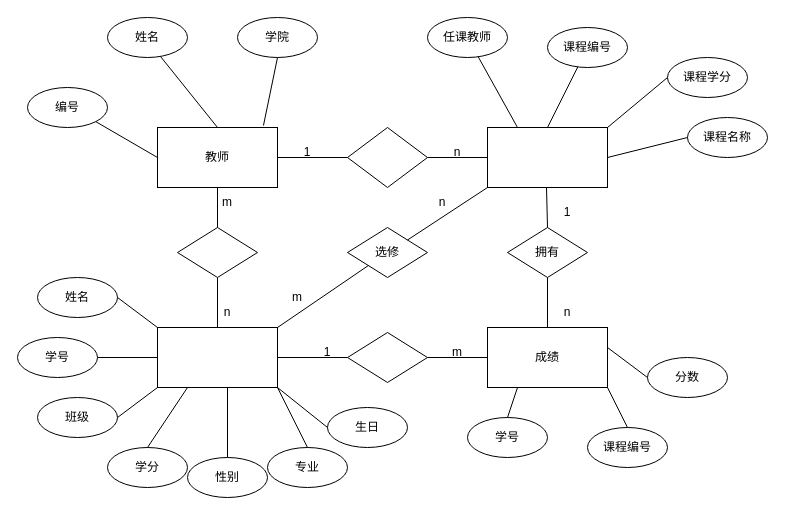
The diagram is 785 pixels wide and 515 high, and some of its shapes have lost their labels. The centre of each missing label's shape, as x and y in pixels:
学生: pixel 217 357
教导: pixel 217 252
考试: pixel 387 357
讲授: pixel 387 157
课程: pixel 547 157
